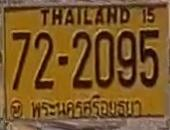0: (94, 30, 114, 88)
2: (34, 31, 55, 90), (72, 31, 93, 89)
5: (139, 29, 160, 87)
7: (12, 32, 30, 86)
9: (116, 30, 137, 87)
AYA: (27, 93, 146, 122)
